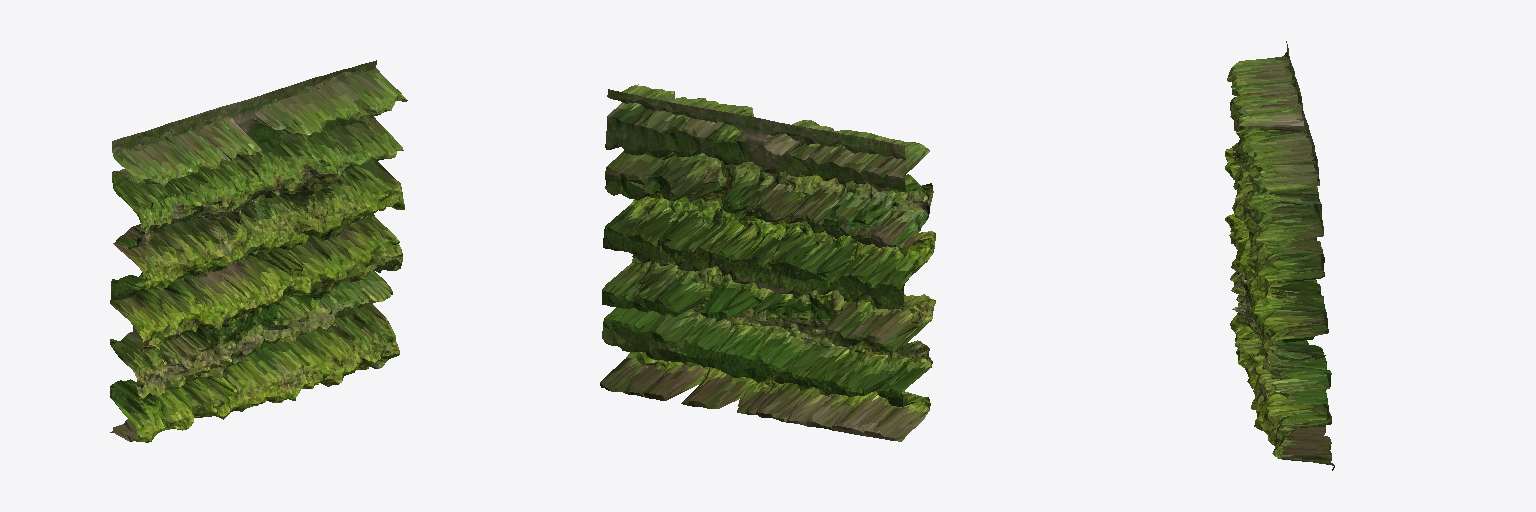
The picture shows the model from 3 angles: view 1: azimuth 30°, elevation 25°; view 2: azimuth 150°, elevation 25°; view 3: azimuth 270°, elevation 25°; orthographic projection.
Visible parts, largest first — view 1: grp1; view 2: grp1; view 3: grp1.
Boxes of the visible parts, box(x1,y1,x2,y2) form: grp1: box(110, 60, 407, 442); grp1: box(600, 84, 935, 441); grp1: box(1225, 41, 1334, 470).
Bounding box in the file's own units: 10 × 10 × 3.41.
1 materials, 1 textured.